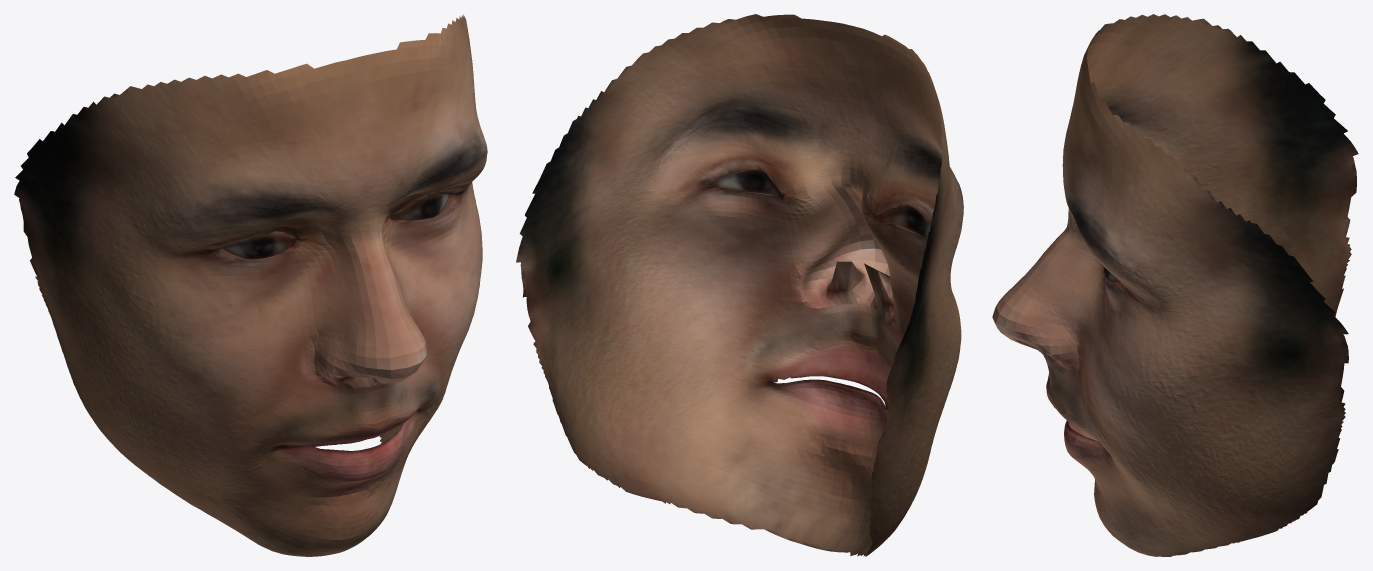
Rendered from 3DDFAV3.obj.
The picture shows the model from 3 angles, left to right: view 1: azimuth 30°, elevation 25°; view 2: azimuth 150°, elevation 25°; view 3: azimuth 270°, elevation 25°; orthographic projection. The views are drawn at different scales.
Size of the model in its own units: 1.32 by 1.61 by 1.1.
